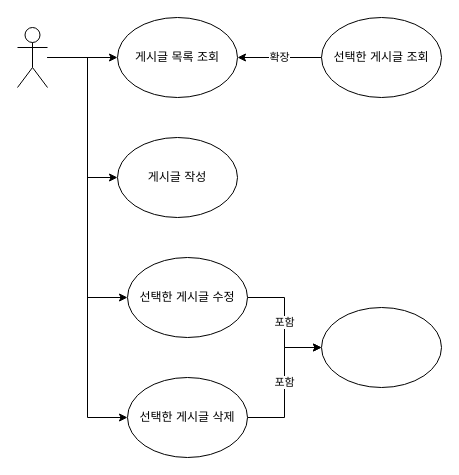
The diagram is 459 pixels wide and 475 high, and some of its shapes have lost their labels. The shapes that lost their labels are listed below. From the top down, each one's centre as x and y in pixels, then its label:
point (32, 57): 고객
point (381, 347): 비밀번호 일치 확인
